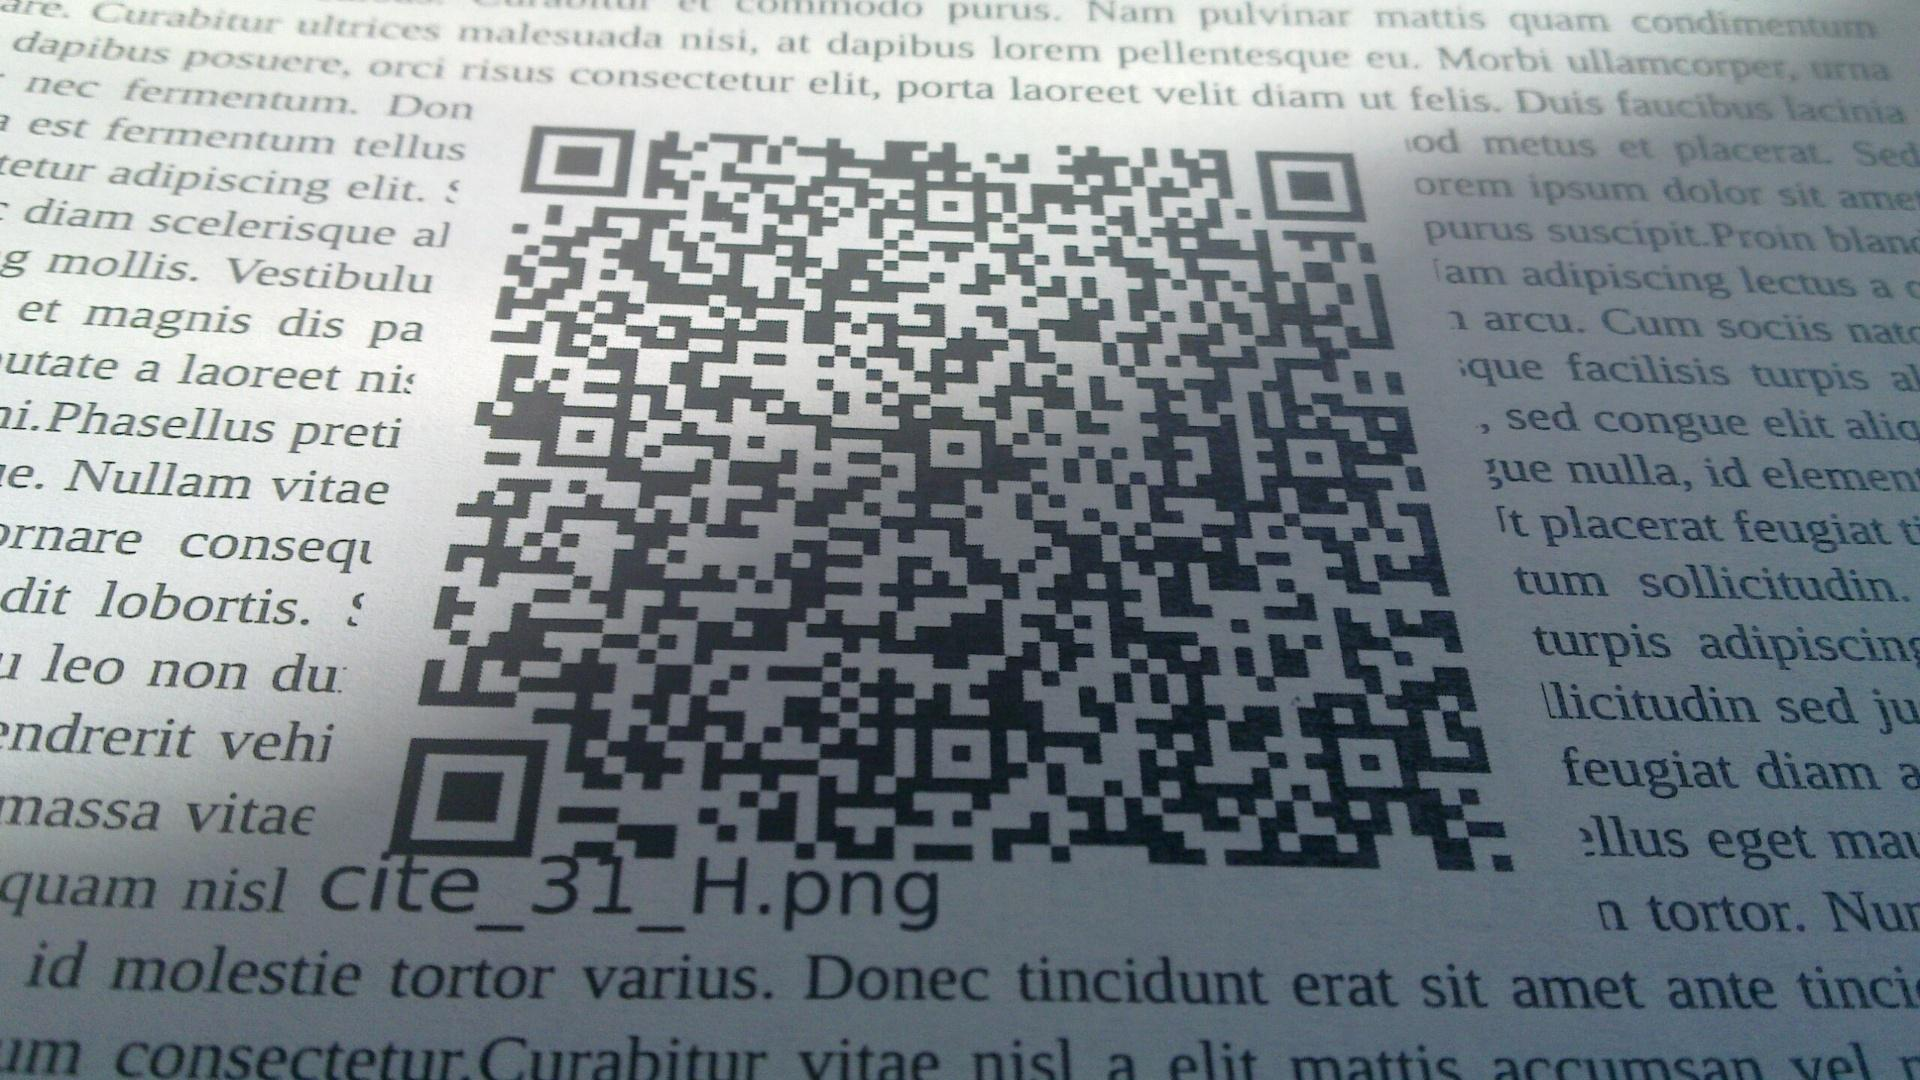Finder pattern: (386, 729, 550, 865), (1247, 145, 1375, 229), (520, 117, 640, 200)
